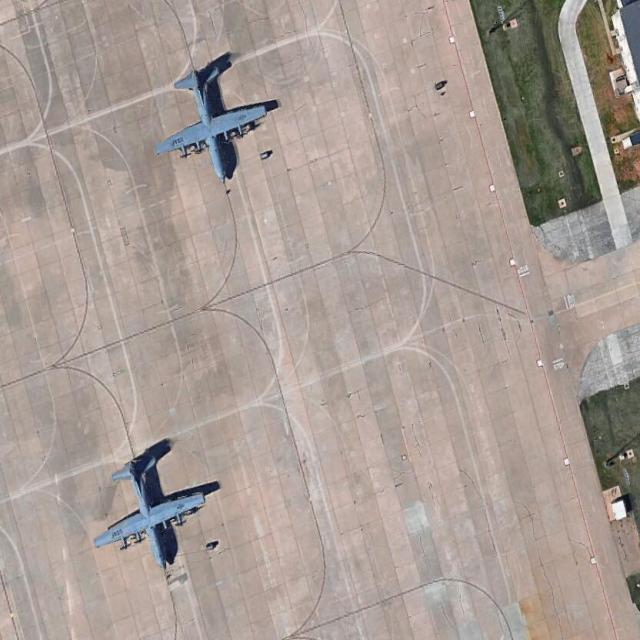fighter jet: (92, 445, 214, 582), (159, 63, 277, 184)
